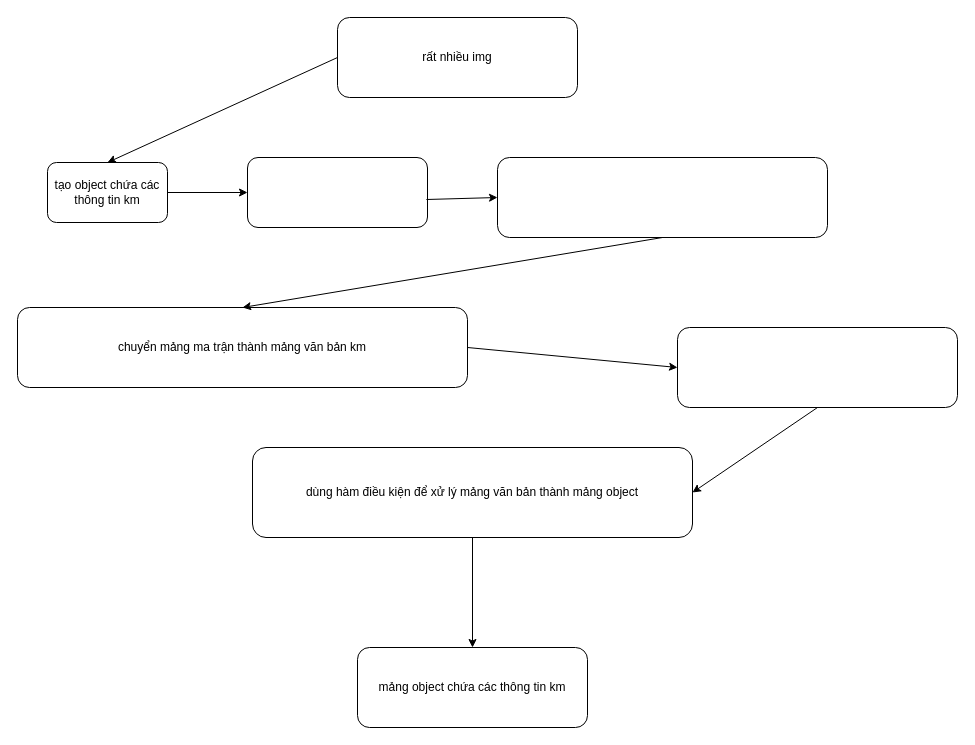
Image size: 975x745. Some labels were removed from this diagram. The centre of each missing label's shape, as x and y in pixels:
"chuyển các file img thành mảng gồm nhiều các path img" belongs at point 337,192.
"chuyển mảng path thành mảng các ma trận số sau khi imread" belongs at point 662,197.
"code các hàm điều kiện để lọc văn bản trong mảng văn bản" belongs at point 817,367.
